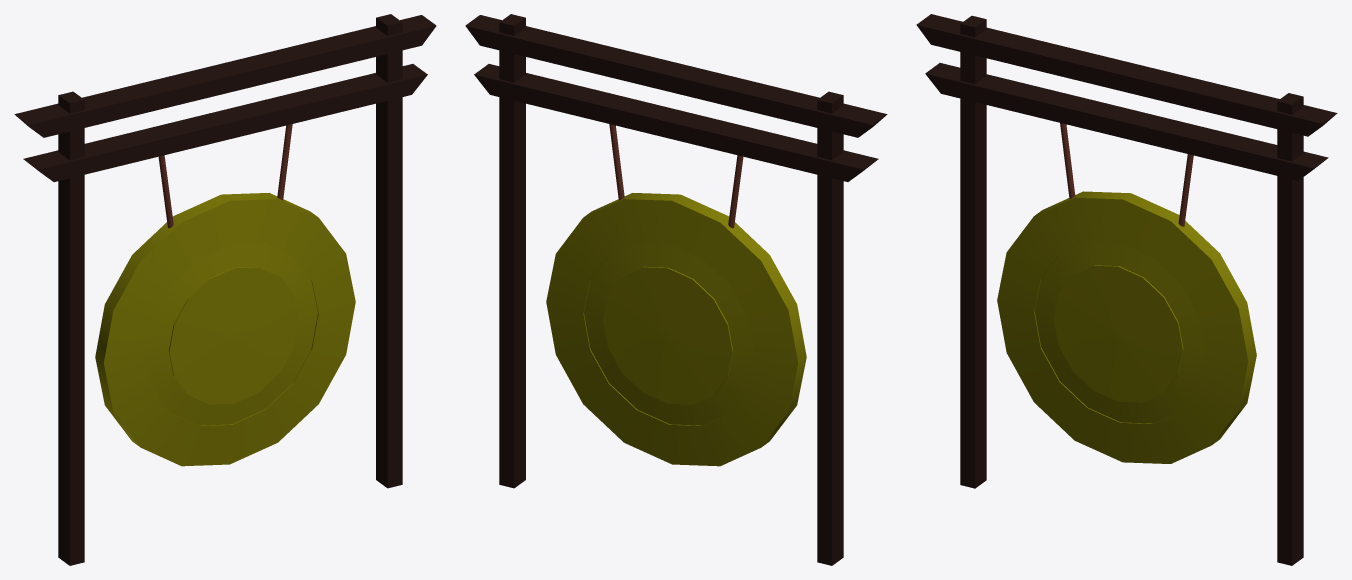
The model's file is obj_chinese_gong_large.fbx.
3 renders of one model, left to right at view 1: azimuth 30°, elevation 25°; view 2: azimuth 150°, elevation 25°; view 3: azimuth 330°, elevation 25°, orthographic.
Visible parts, largest first — view 1: polySurface2, polySurface7, polySurface10; view 2: polySurface2, polySurface7, polySurface10; view 3: polySurface2, polySurface7, polySurface1.
Part boxes in pixels (<box>): polySurface2: <box>95,193,355,466</box>; polySurface7: <box>14,14,436,565</box>; polySurface10: <box>277,124,292,200</box>; polySurface2: <box>546,193,806,466</box>; polySurface7: <box>465,14,887,565</box>; polySurface10: <box>609,124,624,200</box>; polySurface2: <box>997,191,1256,463</box>; polySurface7: <box>916,14,1337,565</box>; polySurface1: <box>1060,123,1075,198</box>.
Bounding box in the file's own units: 164 × 178 × 13.69.
